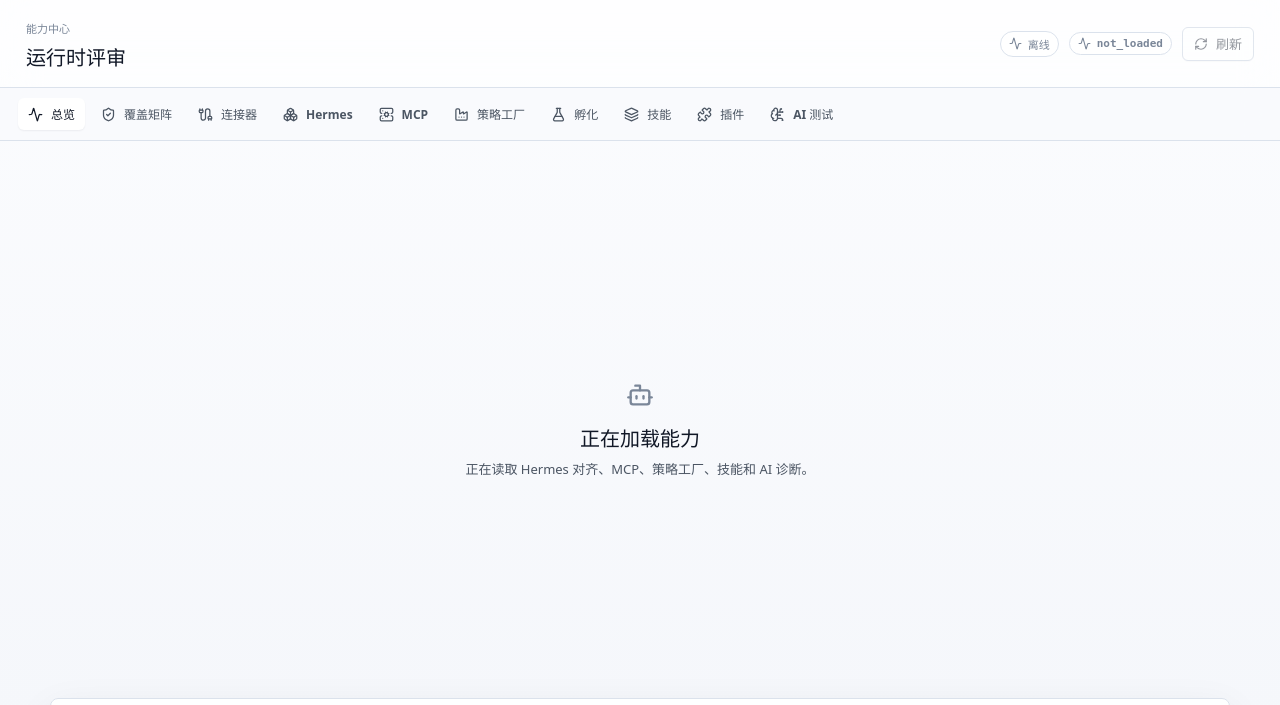
Scenario: CapabilitiesWorkspace › renders MCP connector review counts for authorized discovery
Expected: the heading "运行时评审" is shown, [26,42,126,71]
Click the button "MCP": {"x": 403, "y": 114} [369,98,438,130]
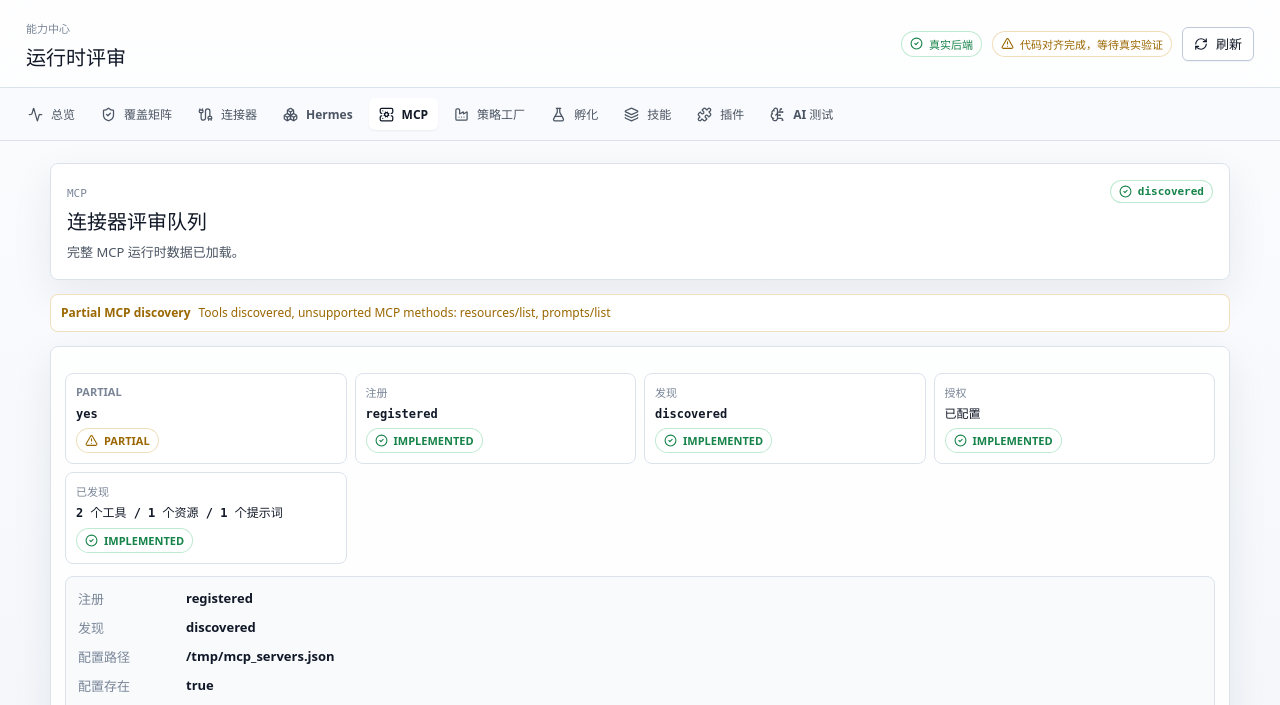
Now the heading "连接器评审队列" is shown, box [67,208,207,235]
Now the text "2 个工具 / 1 个资源 / 1 个提示词" is shown, box [76,506,283,520]
Now the text "Partial MCP discovery" is shown, box [61,304,190,321]
